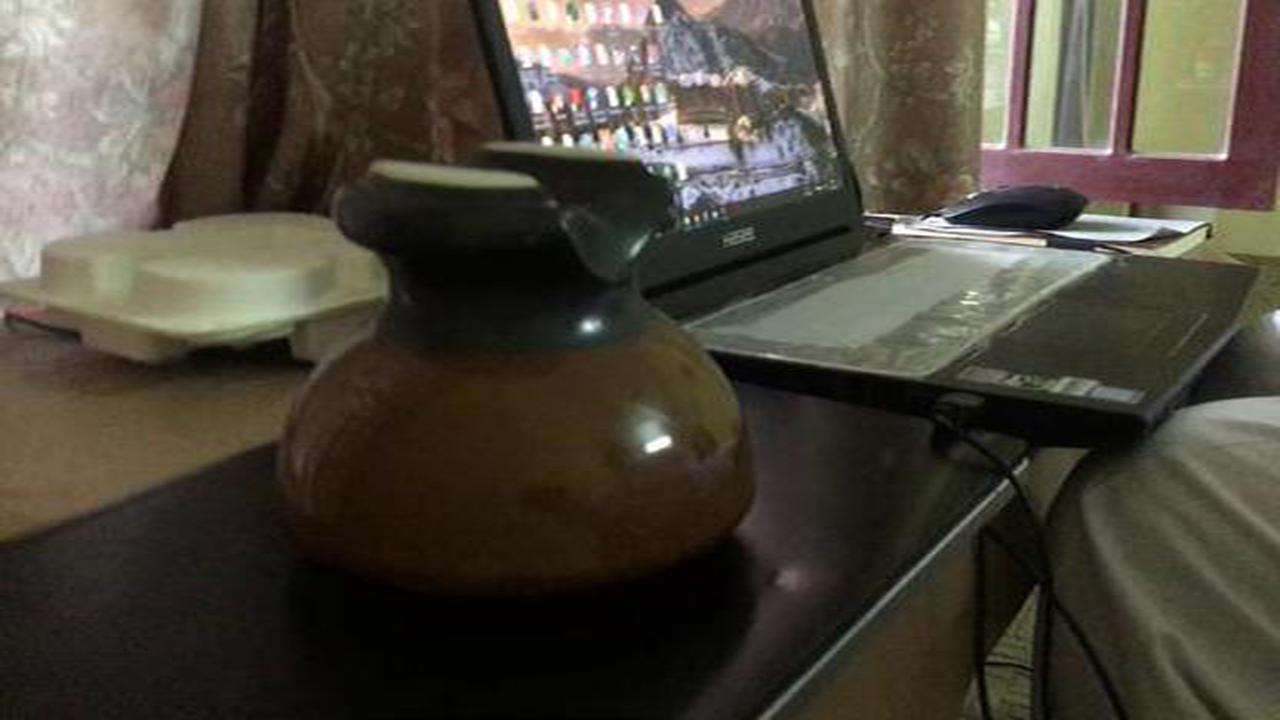insulator_pin: (241, 126, 776, 608)
